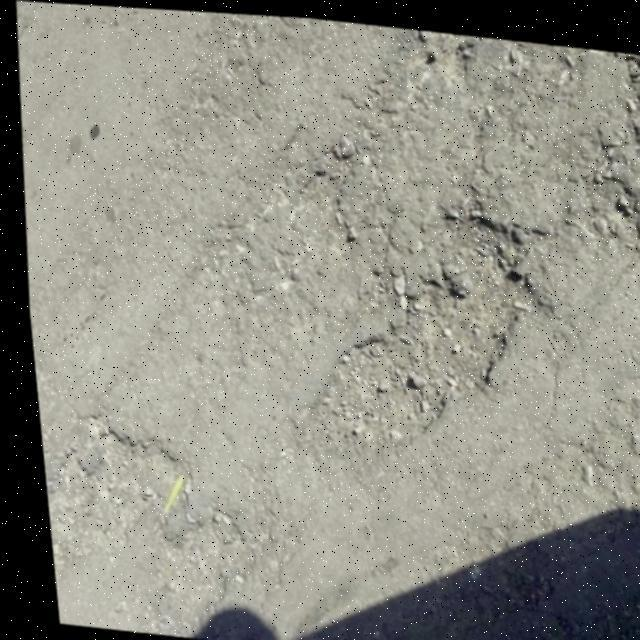pothole: (285, 183, 542, 477), (378, 21, 640, 240)
